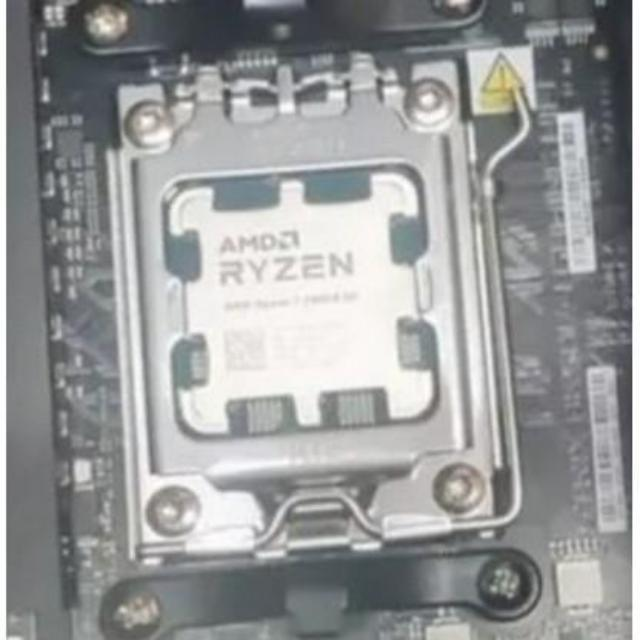CPU: (175, 174, 430, 420)
